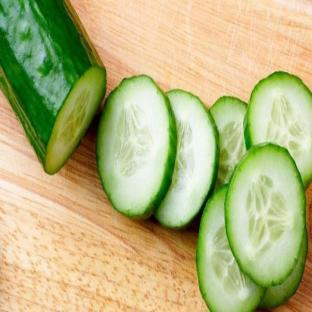Cucumber: (96, 76, 176, 218), (226, 144, 305, 287), (155, 90, 218, 228), (196, 186, 264, 311), (245, 72, 311, 187), (260, 231, 308, 308), (211, 97, 247, 188)
